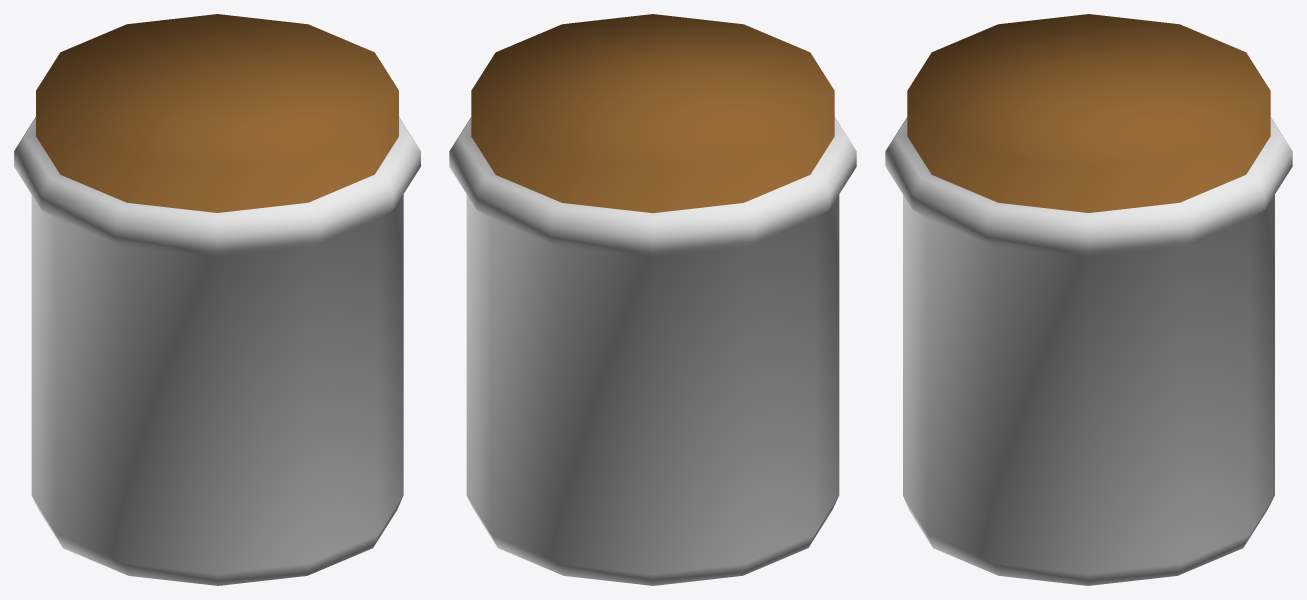
The model's file is Cumjar.fbx.
3 views of the same model, side by side, from view 1: azimuth 30°, elevation 25°; view 2: azimuth 150°, elevation 25°; view 3: azimuth 270°, elevation 25° (orthographic).
Visible parts, largest first — view 1: Cylinder.003; view 2: Cylinder.003; view 3: Cylinder.003.
Boxes of the visible parts, x1,y1,x2,y2 form: Cylinder.003: (14,14,420,585); Cylinder.003: (449,14,856,585); Cylinder.003: (885,14,1292,585).
Bounding box in the file's own units: 28.59 × 32.98 × 28.59.
